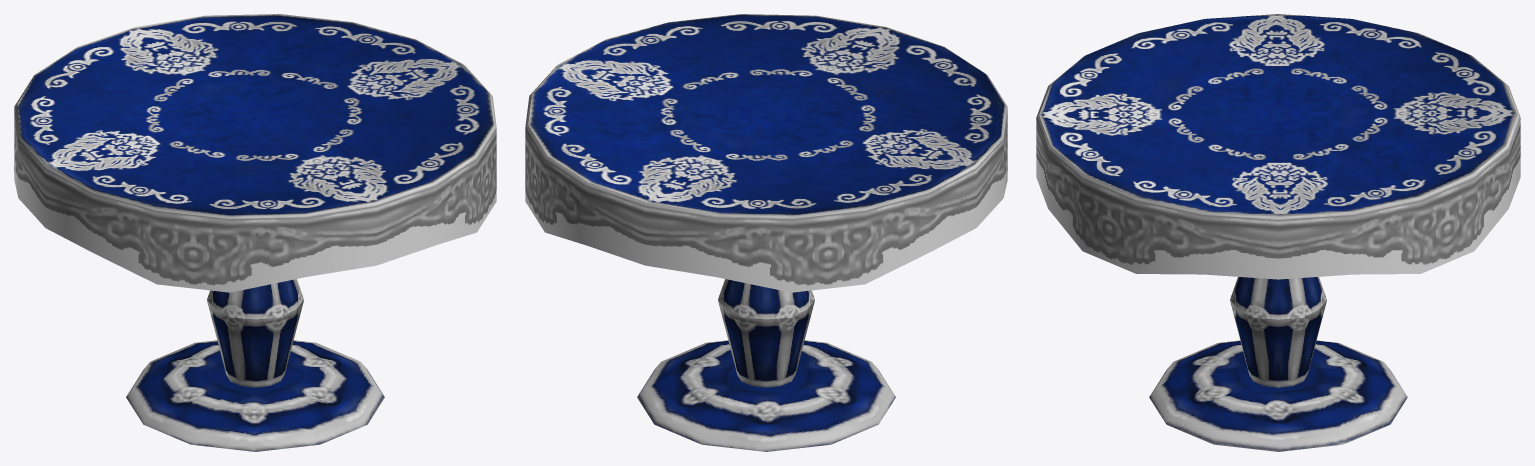
File: EmpressRoundTable_HD.fbx
3 views of the same model, side by side, from view 1: azimuth 30°, elevation 25°; view 2: azimuth 150°, elevation 25°; view 3: azimuth 270°, elevation 25° (orthographic).
Visible parts, largest first — view 1: EmpressRoundTable; view 2: EmpressRoundTable; view 3: EmpressRoundTable.
Part boxes in pixels (left/top/right/bottom): EmpressRoundTable: left=14, top=14, right=496, bottom=451; EmpressRoundTable: left=525, top=14, right=1007, bottom=451; EmpressRoundTable: left=1036, top=14, right=1520, bottom=451.
Bounding box in the file's own units: 0.941 × 0.6049 × 0.941.
